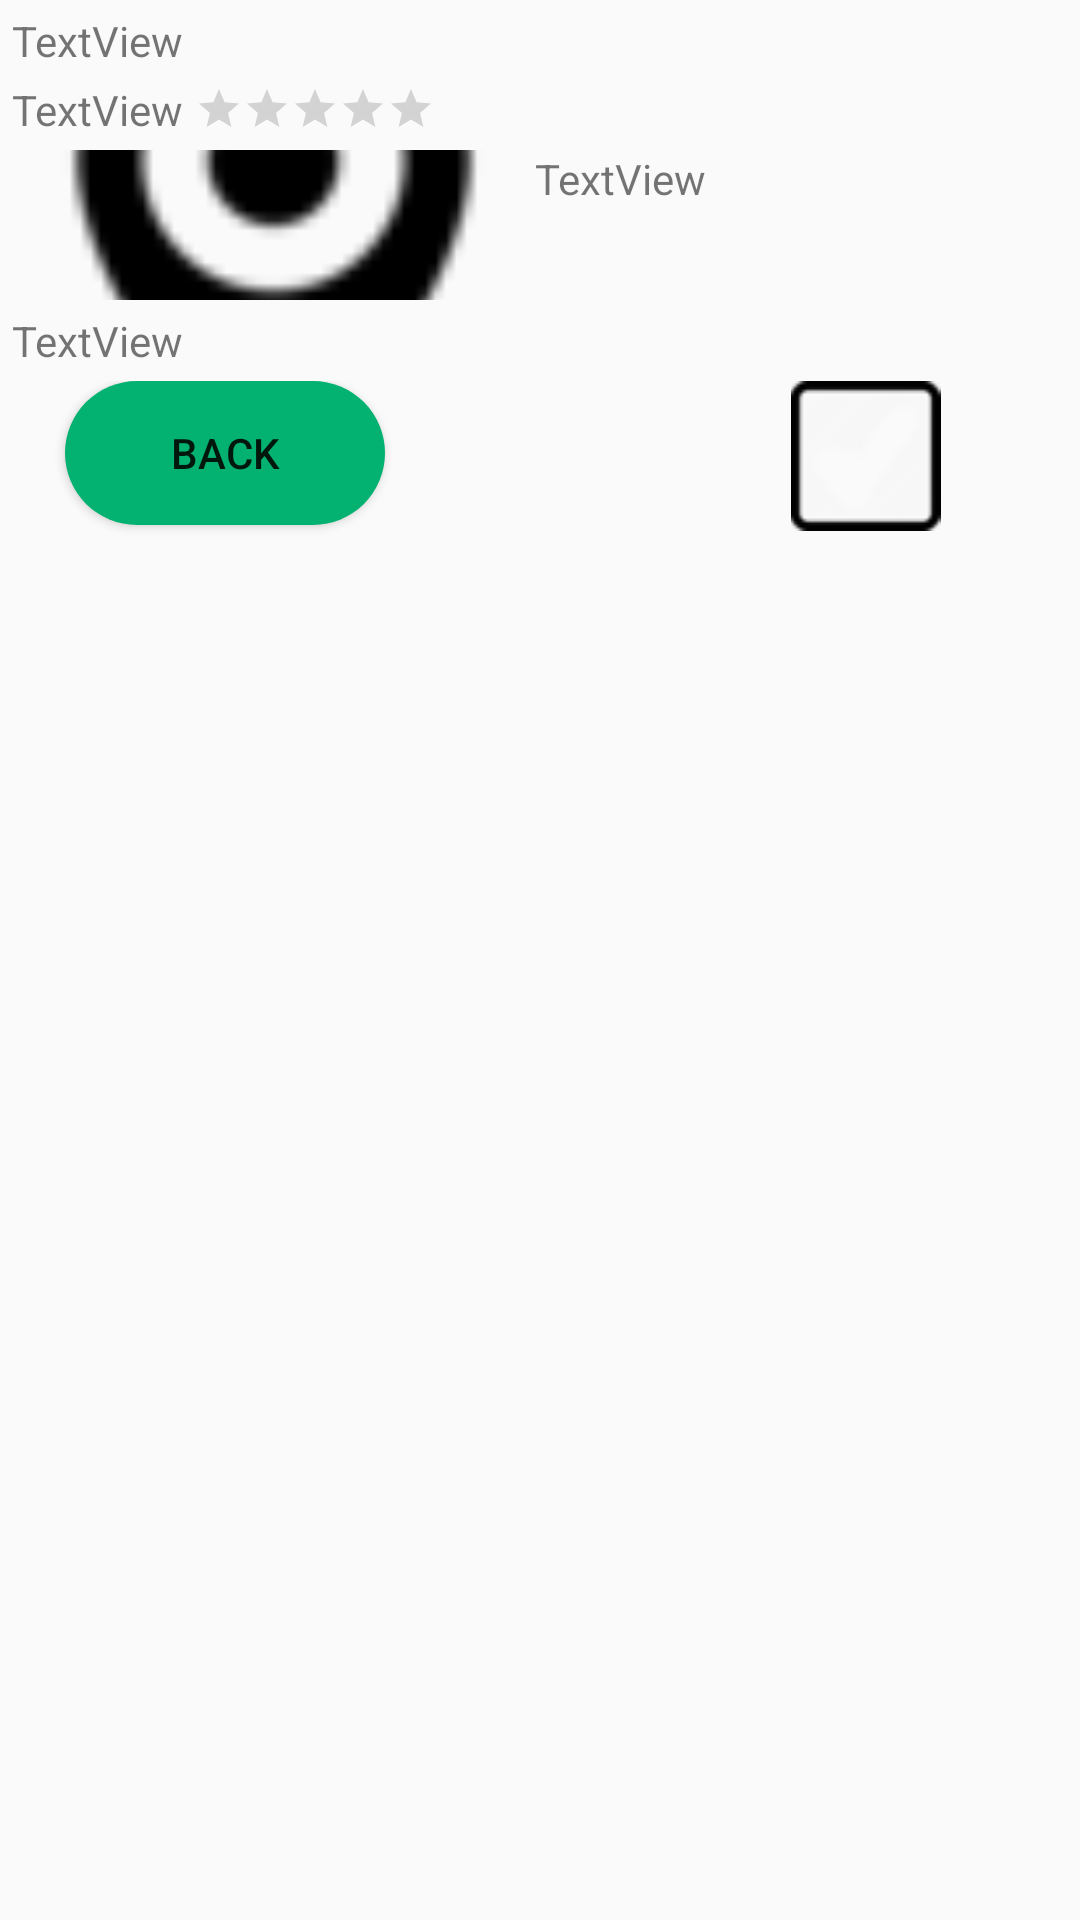

Icons on this 1080x1920 Android screen, each with the point to tap as [x,y]:
checkbox square unchecked: [866,456]
